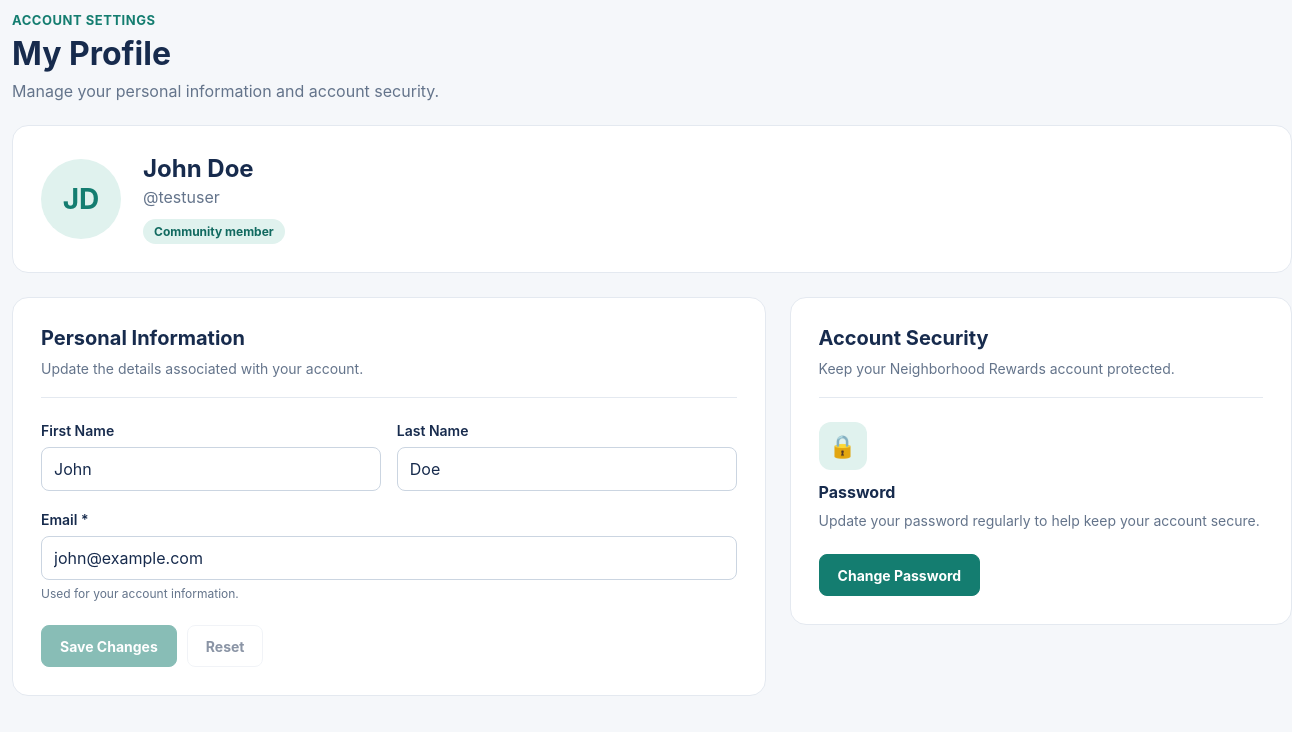
Test: Profile Component › prevents duplicate submission while saving
Expected: the heading "My Profile" is shown, [12,34,171,73]
Replace the text in the field labelled "First Name" with "Jane". click: (211,469)
box: [41,447,381,491]
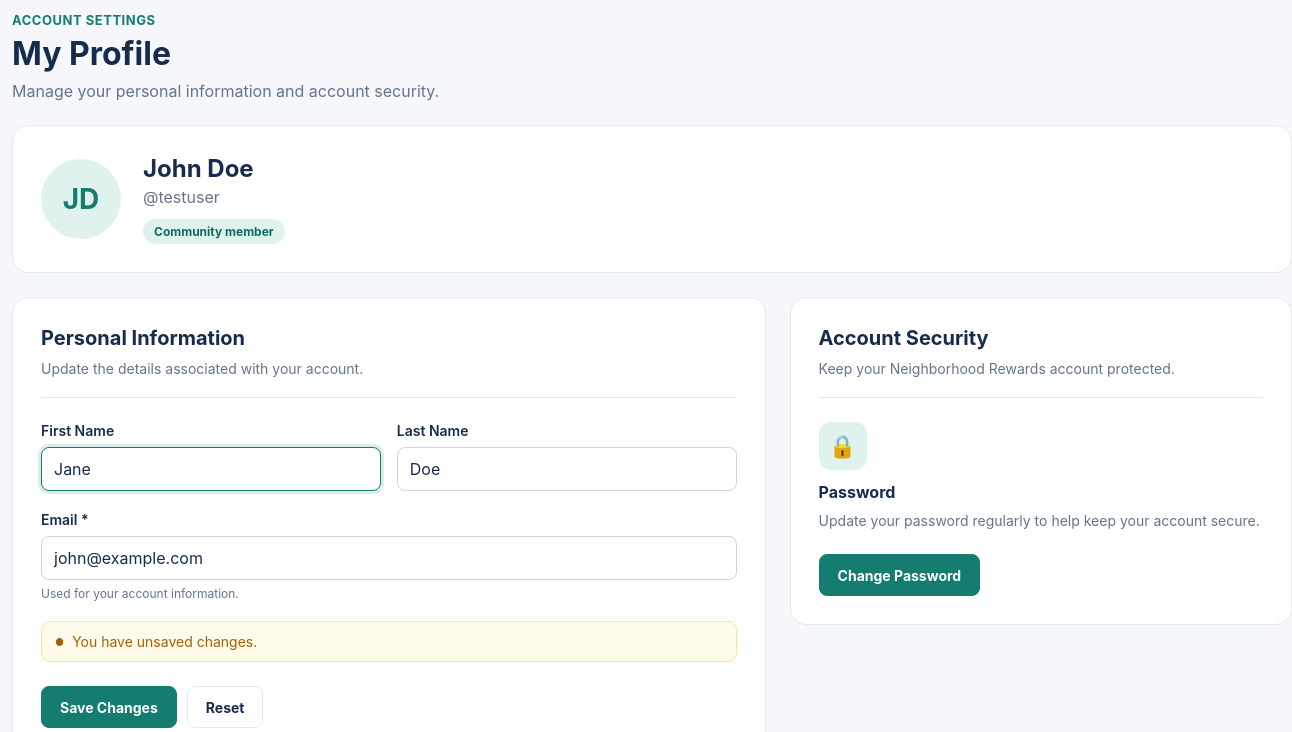
Click the button "Save Changes". click: (109,707)
box: [41,686,177,728]
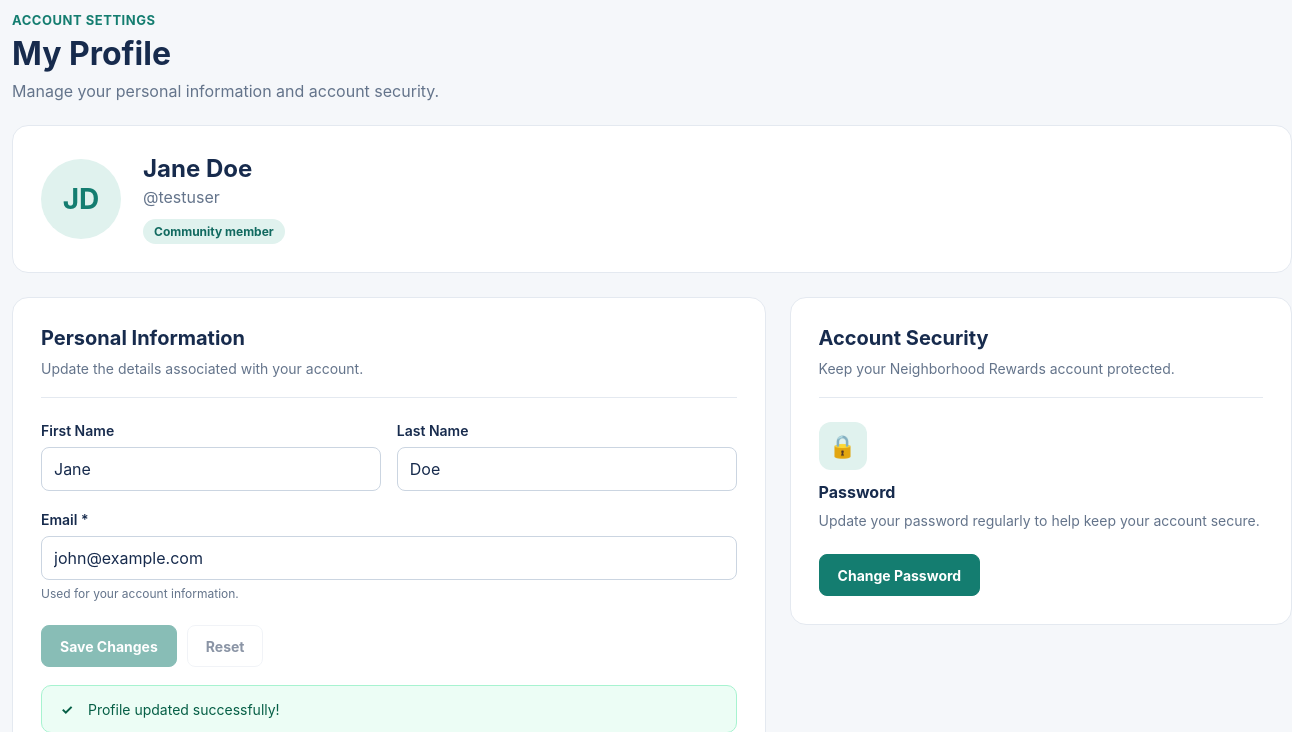
Expected: the button named "Saving..." is disabled, [41,625,177,667]
Expected: the button "Reset" is disabled, [187,625,264,667]
Expected: the text "Profile updated successfully!" is shown, [88,700,280,718]
